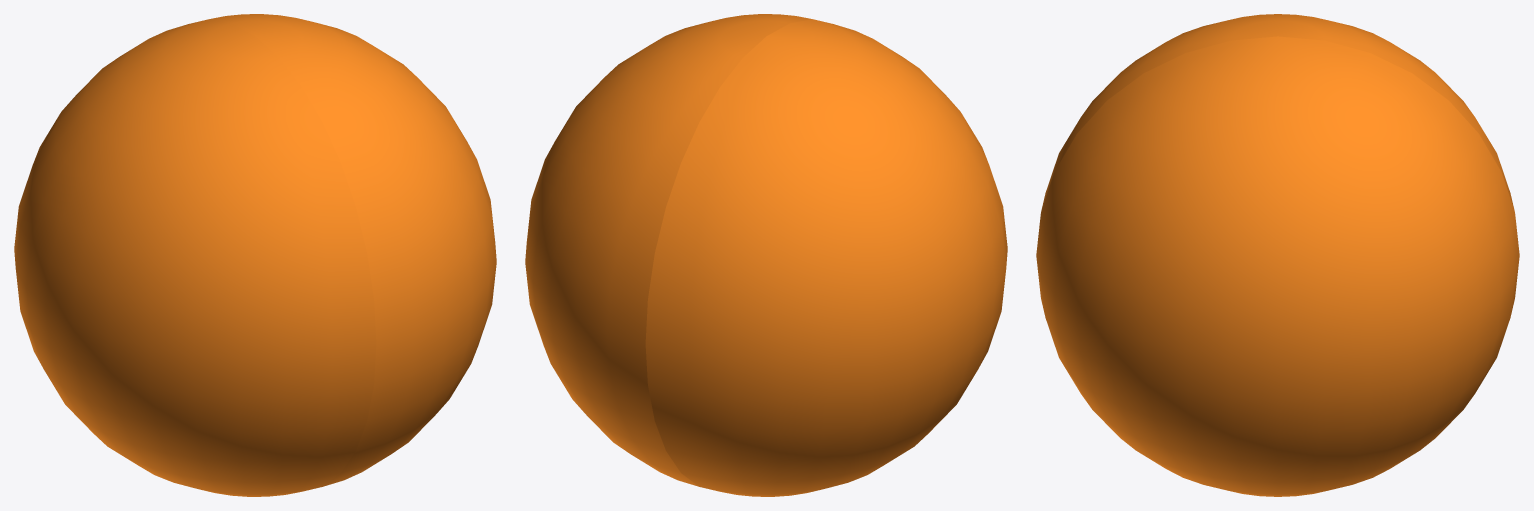
File: Orange.fbx
3 views of the same model, side by side, from view 1: azimuth 30°, elevation 25°; view 2: azimuth 150°, elevation 25°; view 3: azimuth 270°, elevation 25° (orthographic).
Visible parts, largest first — view 1: Sphere.006; view 2: Sphere.006; view 3: Sphere.006.
Boxes of the visible parts, left/top/right/bottom form: Sphere.006: left=14, top=14, right=496, bottom=496; Sphere.006: left=525, top=14, right=1007, bottom=496; Sphere.006: left=1036, top=14, right=1519, bottom=496.
Bounding box in the file's own units: 0.2 × 0.2 × 0.2.
